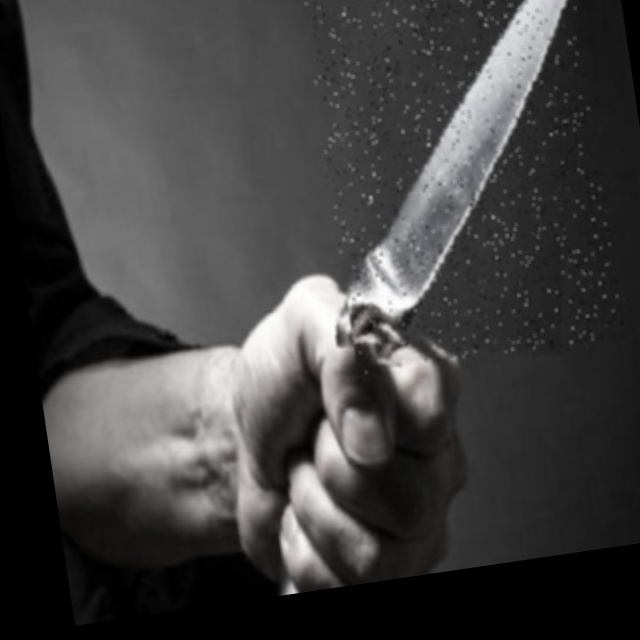Sharp-Object: (295, 0, 626, 375)
